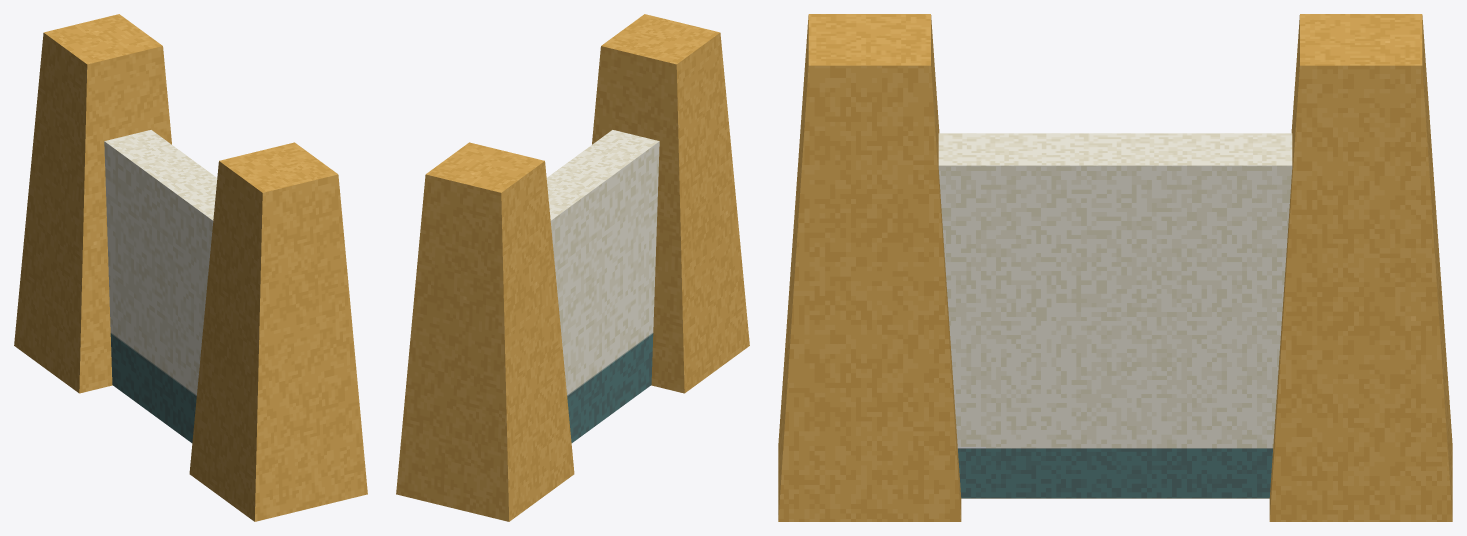
The model's file is MurallaCompletaGrecia.fbx.
3 views of the same model, side by side, from view 1: azimuth 30°, elevation 25°; view 2: azimuth 150°, elevation 25°; view 3: azimuth 270°, elevation 25° (orthographic). The views are drawn at different scales.
Parts seen in each view (by area): view 1: MurallaCompleta; view 2: MurallaCompleta; view 3: MurallaCompleta.
Part boxes in pixels (x1,y1,x2,y2): MurallaCompleta: (14,14,367,521); MurallaCompleta: (396,14,749,521); MurallaCompleta: (778,14,1452,521).
Size of the model in its own units: 299 by 799 by 1101.
